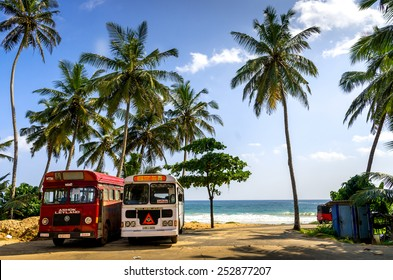bus: (37, 169, 121, 246), (121, 173, 184, 244)
